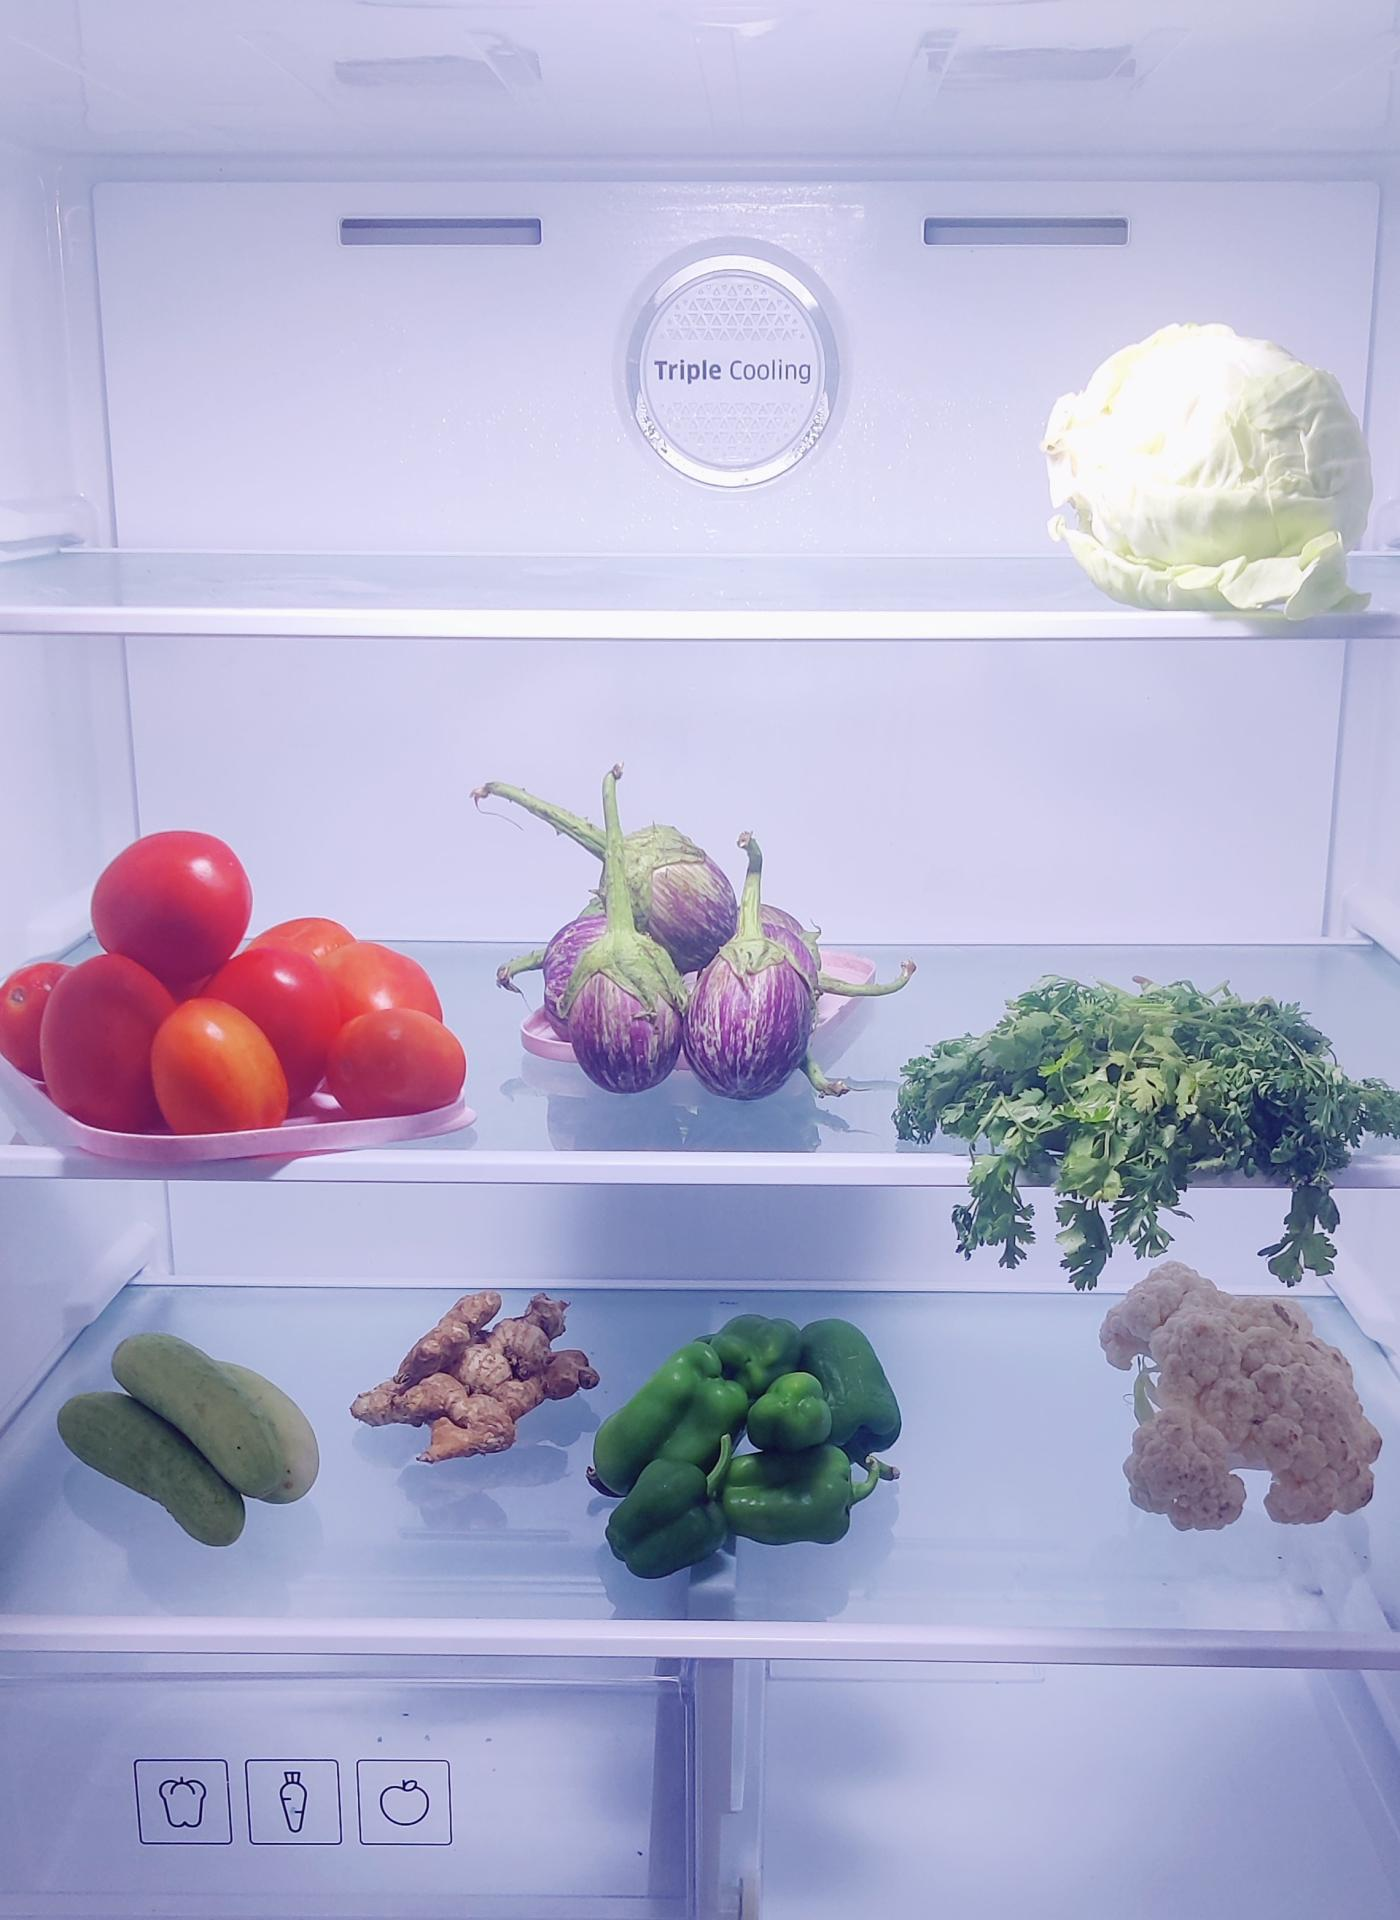cabbage: (1050, 331, 1357, 608)
capsicum: (605, 1310, 890, 1576)
cauliflower: (1114, 1267, 1378, 1519)
coriander: (908, 981, 1370, 1212)
cucumber: (55, 1331, 316, 1544)
ginger: (347, 1288, 595, 1465)
tomato: (39, 835, 459, 1121)
